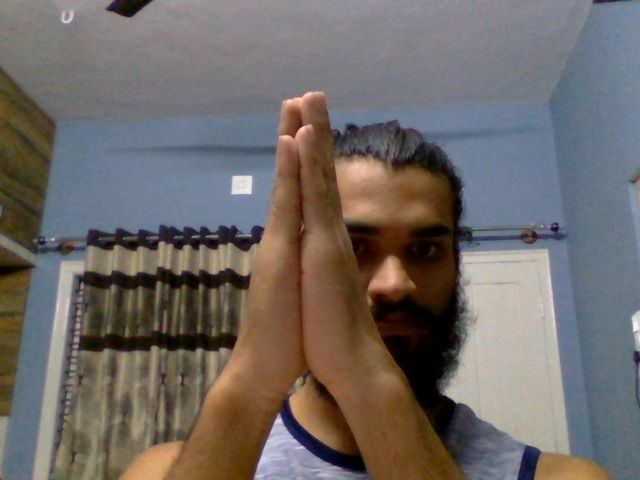ThankYou: (234, 88, 378, 368)
